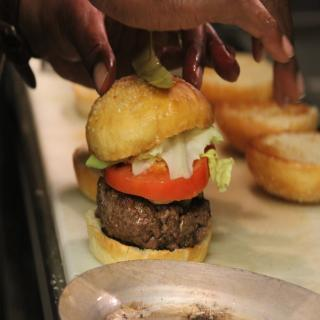Hamburger: (82, 50, 234, 266)
